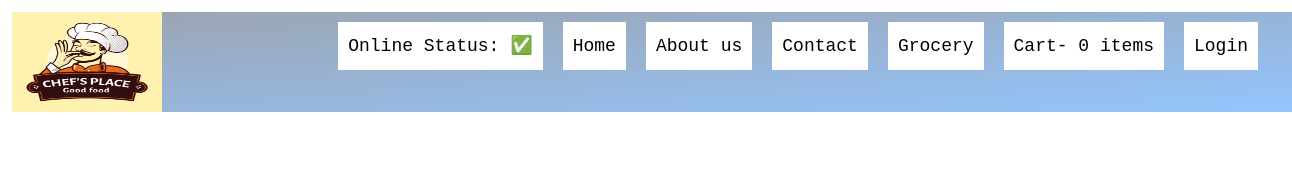
Test: login button should change it's name after click
Click the button "Login": (1221, 46) [1184,22,1258,70]
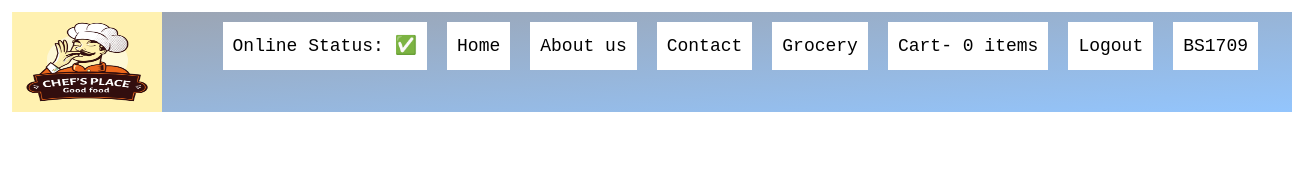
Expected: the button "Logout" is shown, [1068,22,1153,70]
